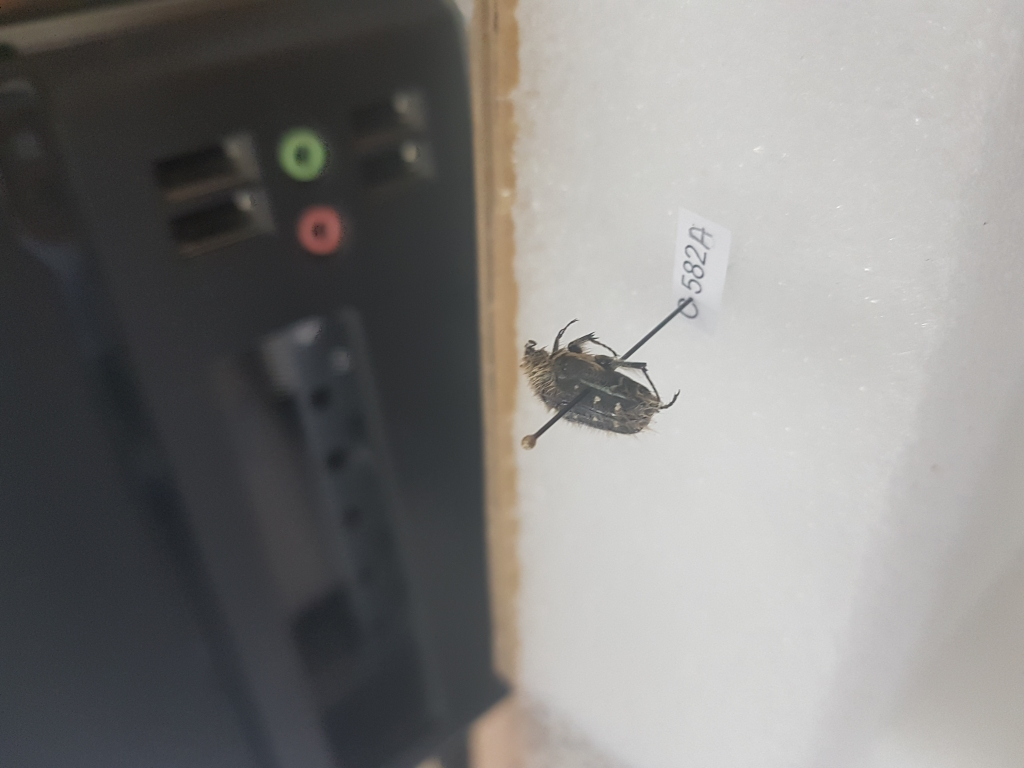Tropinota_hirta: (519, 313, 675, 435)
